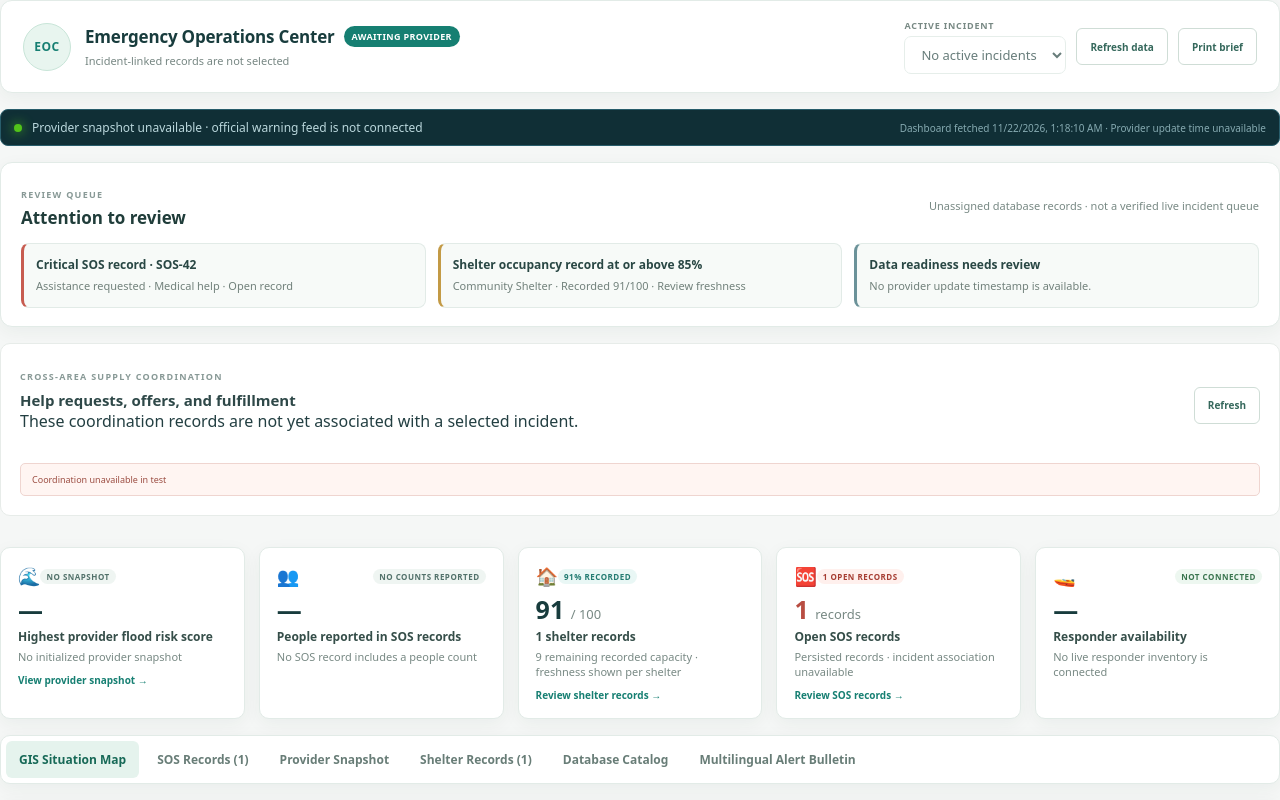
EOC dashboard › shows a real-data attention item and links it to the record inspector
Click the button "Critical SOS record · SOS-42": (223, 275) [21,243,426,308]
(page scrolled)
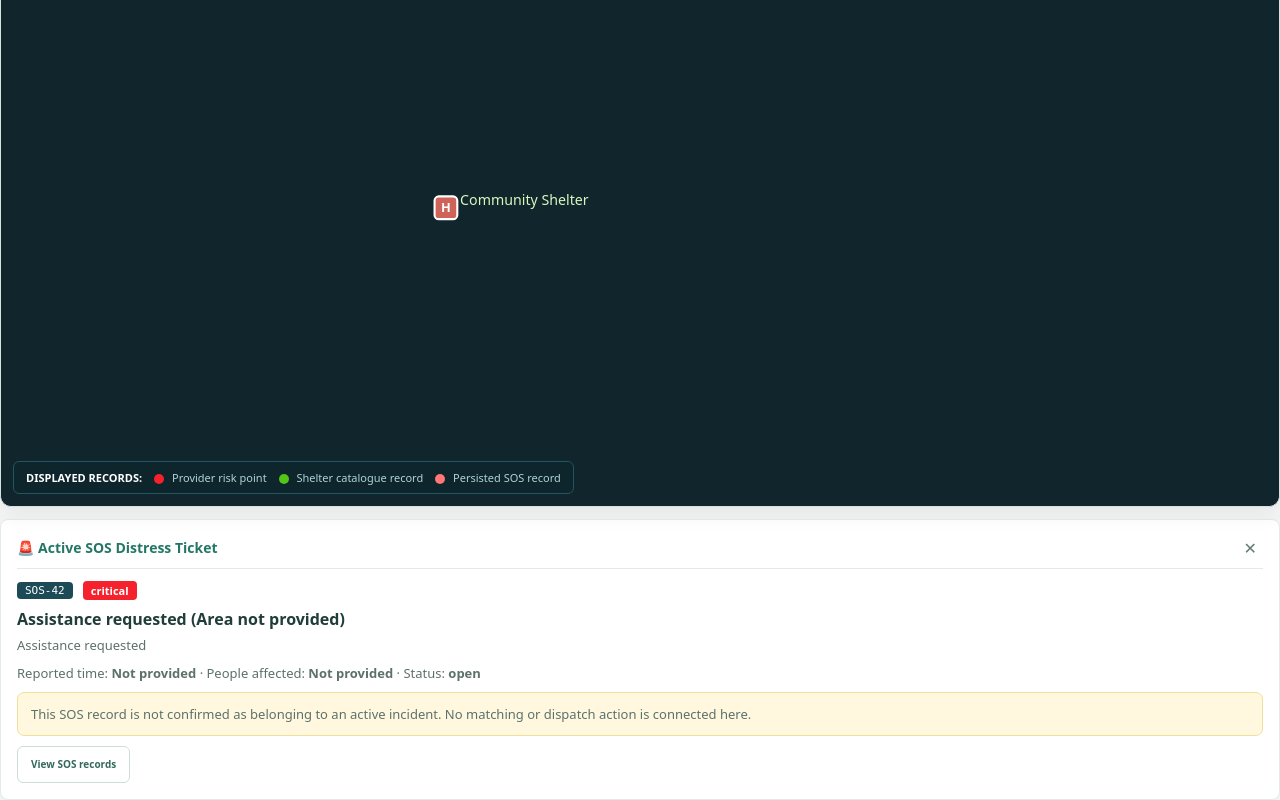
Check: the text "Assistance requested" is shown, box [17,636,146,654]
Check: the text "People affected:" shows "Not provided", box [112,664,196,682]
Check: the text "not confirmed as belonging to an active incident" is shown, box [31,704,751,722]
